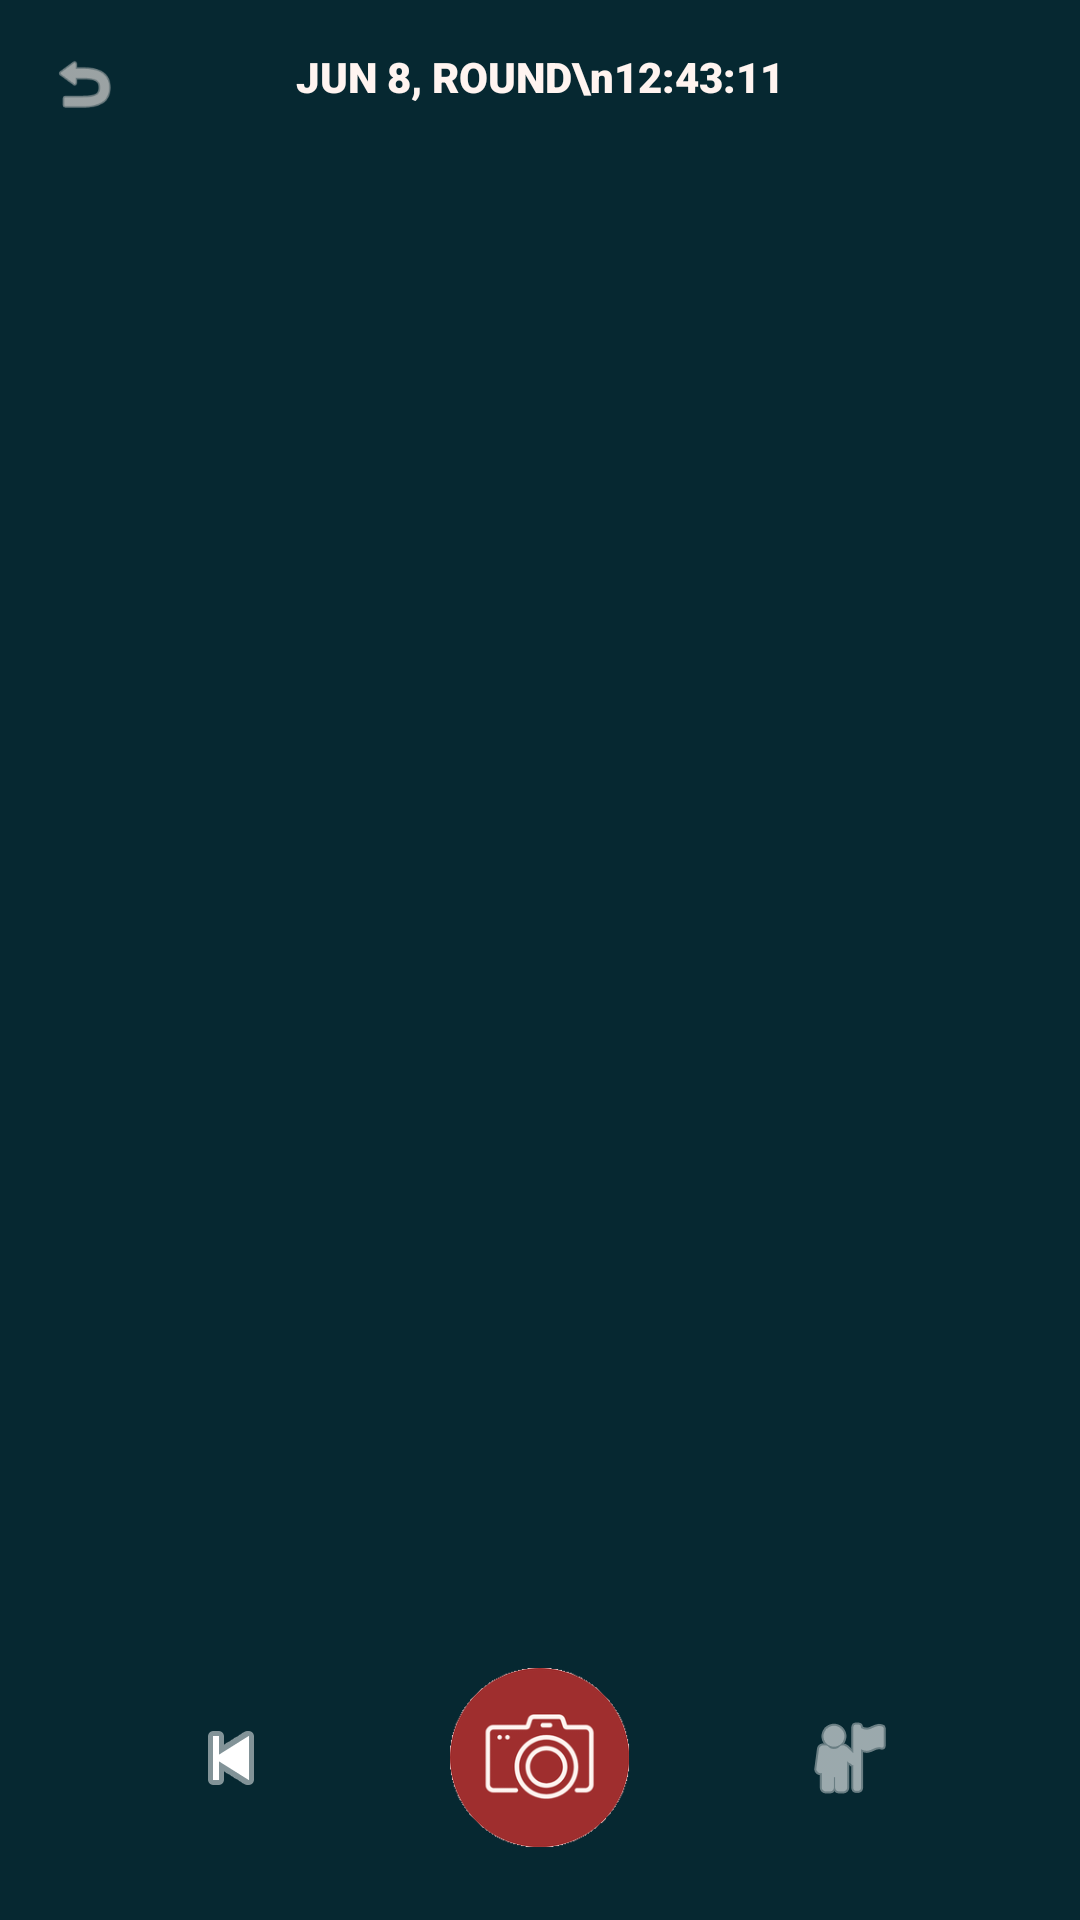

Screen size 1080w x 1920h. Icon name, then its center in pixels as (x,y):
previous: (231,1758)
revert: (85,84)
Take Photo: (539,1757)
